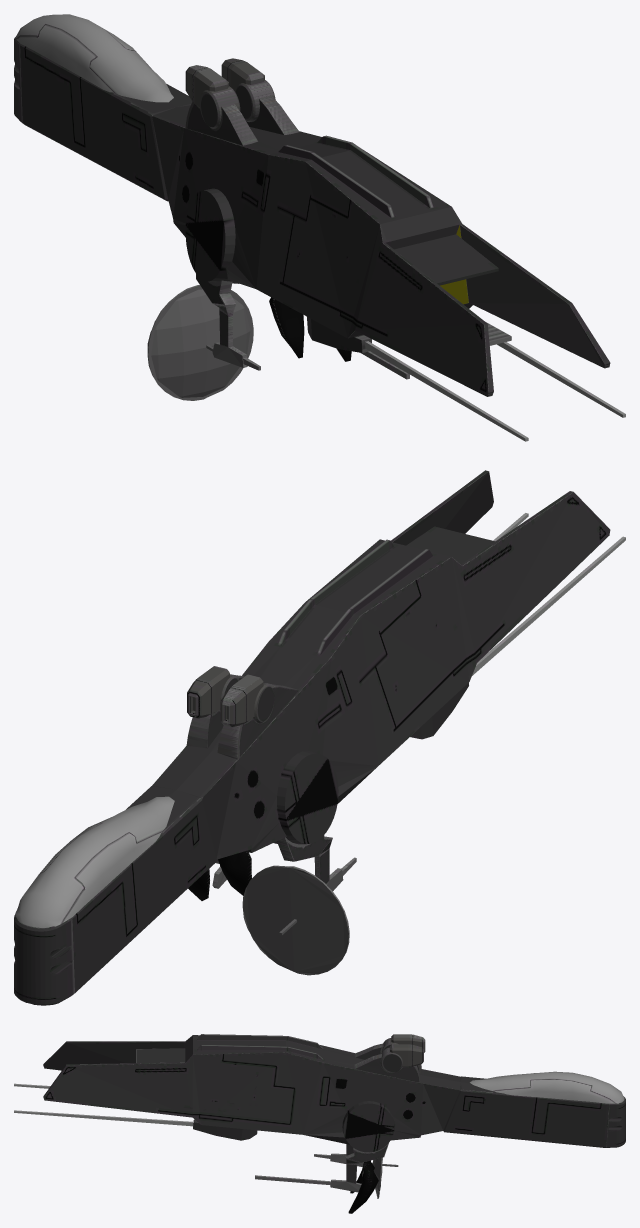
The model's file is tfpa_01_fighter.obj.
3 renders of one model, top to bottom at view 1: azimuth 30°, elevation 25°; view 2: azimuth 150°, elevation 25°; view 3: azimuth 270°, elevation 25°, orthographic. The views are drawn at different scales.
Parts seen in each view (by area): view 1: jorodoxShape; view 2: jorodoxShape; view 3: jorodoxShape.
Part boxes in pixels (box(x1,y1,x2,y2)): jorodoxShape: box(14, 14, 625, 441); jorodoxShape: box(14, 470, 625, 1005); jorodoxShape: box(14, 1034, 625, 1213).
Size of the model in its own units: 4.93e-06 by 7.42e-06 by 2.43e-05.
